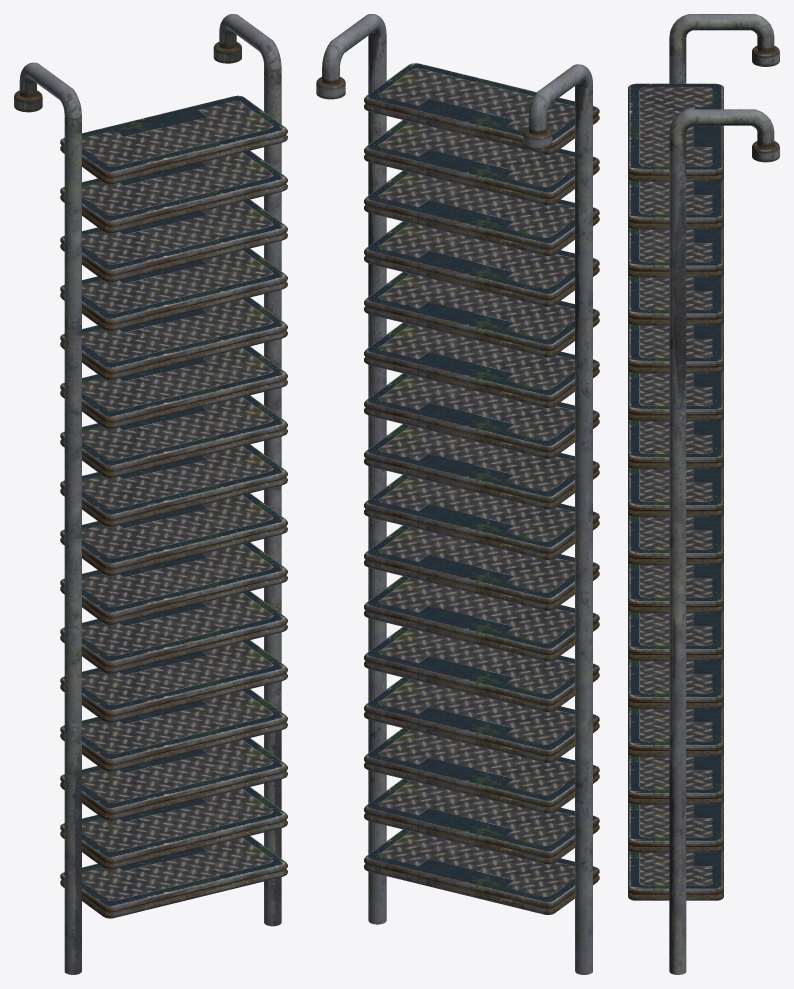
The model's file is SM_Scaffolding_pCube175.fbx.
3 views of the same model, side by side, from view 1: azimuth 30°, elevation 25°; view 2: azimuth 150°, elevation 25°; view 3: azimuth 270°, elevation 25° (orthographic). The views are drawn at different scales.
Visible parts, largest first — view 1: SM_Scaffolding_pCube175_LOD0; view 2: SM_Scaffolding_pCube175_LOD0; view 3: SM_Scaffolding_pCube175_LOD0.
Part boxes in pixels (box(x1,y1,x2,y2)): SM_Scaffolding_pCube175_LOD0: box(14, 14, 287, 974); SM_Scaffolding_pCube175_LOD0: box(316, 14, 599, 974); SM_Scaffolding_pCube175_LOD0: box(628, 14, 779, 974).
Size of the model in its own units: 95.9 by 57.39 by 359.
Materials: 1 (1 with a texture image).
